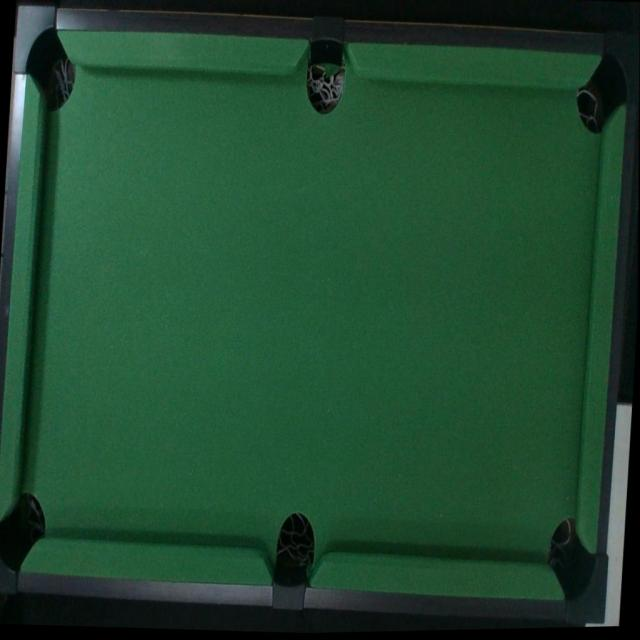pockw: (546, 509, 612, 626), (572, 34, 640, 140), (13, 5, 81, 111), (0, 487, 51, 595), (272, 512, 319, 614), (305, 20, 351, 119)
